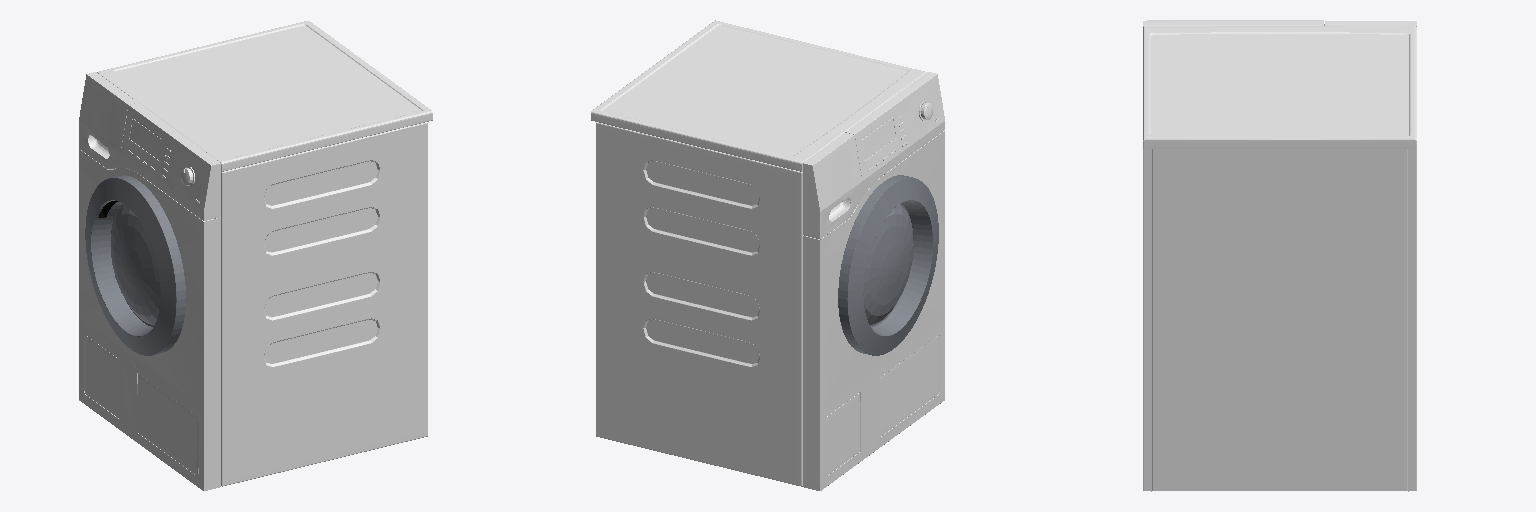
URDF robot description (miele_washing_machine):
<?xml version="1.0"?>
<!--
  Miele WT1 washer-dryer WTW870 WPM (Wash & Dry XXL, PowerWash & TwinDos, 9/6 kg): 850 mm high,
  596 mm wide, 714 mm deep (1132 mm with the door open), 102 kg, hinged on the right (data sheet
  11568210). The visual mesh is about 40 mm shallower than the data sheet depth.
  Visual meshes are split from the Miele T1/W1 3D model; joints, frames and collisions follow
  the layout of the 031 washing machine URDF.

  Metres, Z up, front toward -X, origin at floor level in the centre of the footprint.
  Seen from the front, the porthole door is hinged on the right and opened by hooking a finger from
  below into the grip recess in the upper left of its ring (115 to 155 degrees, 90 being the top): a
  2 cm deep hollow under the ring, open toward the door's centre, while the ring's front stays closed;
  the detergent drawer sits top left in the control panel.
  Masses and inertias are approximations from primitive volumes; the body mass is the 102 kg from the
  data sheet.
-->
<robot name="miele_washing_machine">
  <material name="miele_white"><color rgba="0.95 0.95 0.95 1"/></material>
  <material name="miele_door_grey"><color rgba="0.55 0.57 0.6 1"/></material>
  <material name="miele_recess_black"><color rgba="0.07 0.07 0.07 1"/></material>
  <material name="miele_recess_edge_orange"><color rgba="0.95 0.55 0.1 1"/></material>

  <link name="washing_machine">
    <inertial><origin xyz="0.021 0 0.43" rpy="0 0 0"/><mass value="102"/><inertia ixx="9.16" ixy="0" ixz="0" iyy="9.53" iyz="0" izz="6.41"/></inertial>
    <visual><origin xyz="0 0 0" rpy="0 0 0"/><geometry><mesh filename="package://iai_objects/objects/miele_washing_machine_body.stl"/></geometry><material name="miele_white"/></visual>
    <!-- housing -->
    <collision><origin xyz="0.021 -0.293 0.43" rpy="0 0 0"/><geometry><box size="0.632 0.01 0.85"/></geometry></collision>
    <collision><origin xyz="0.021 0.293 0.43" rpy="0 0 0"/><geometry><box size="0.632 0.01 0.85"/></geometry></collision>
    <collision><origin xyz="0.332 0 0.43" rpy="0 0 0"/><geometry><box size="0.01 0.596 0.85"/></geometry></collision>
    <collision><origin xyz="0.021 0 0.86" rpy="0 0 0"/><geometry><box size="0.632 0.596 0.01"/></geometry></collision>
    <collision><origin xyz="0.021 0 0.025" rpy="0 0 0"/><geometry><box size="0.632 0.596 0.01"/></geometry></collision>
    <!-- front plate around the porthole, radius 0.15 at y=0, z=0.491 -->
    <collision><origin xyz="-0.285 0 0.1805" rpy="0 0 0"/><geometry><box size="0.02 0.596 0.321"/></geometry></collision>
    <collision><origin xyz="-0.285 0 0.658" rpy="0 0 0"/><geometry><box size="0.02 0.596 0.034"/></geometry></collision>
    <collision><origin xyz="-0.285 -0.224 0.491" rpy="0 0 0"/><geometry><box size="0.02 0.148 0.3"/></geometry></collision>
    <collision><origin xyz="-0.285 0.224 0.491" rpy="0 0 0"/><geometry><box size="0.02 0.148 0.3"/></geometry></collision>
    <!-- control panel right of the detergent drawer opening -->
    <collision><origin xyz="-0.2705 -0.1005 0.77" rpy="0 0 0"/><geometry><box size="0.049 0.395 0.19"/></geometry></collision>
  </link>

  <link name="washing_machine_door">
    <inertial><origin xyz="0.03 0.217 0" rpy="0 0 0"/><mass value="5"/><inertia ixx="0.118" ixy="0" ixz="0" iyy="0.0604" iyz="0" izz="0.0604"/></inertial>
    <visual><origin xyz="0 0 0" rpy="0 0 0"/><geometry><mesh filename="package://iai_objects/objects/miele_washing_machine_door.stl"/></geometry><material name="miele_door_grey"/></visual>
    <visual><origin xyz="0 0 0" rpy="0 0 0"/><geometry><mesh filename="package://iai_objects/objects/miele_washing_machine_door_recess.stl"/></geometry><material name="miele_recess_black"/></visual>
    <visual><origin xyz="0 0 0" rpy="0 0 0"/><geometry><mesh filename="package://iai_objects/objects/miele_washing_machine_door_recess_edge.stl"/></geometry><material name="miele_recess_edge_orange"/></visual>
    <!-- only in front of the front plate, so the closed door touches neither the plate nor the detergent drawer:
         the back of the door as a disc, and the ring in front of it as 10 degree segments, left out where the
         ring holds the grip recess, which the handle covers -->
    <collision><origin xyz="0.00435 0.217 0" rpy="0 1.5708 0"/><geometry><cylinder radius="0.217" length="0.0107"/></geometry></collision>
    <collision><origin xyz="-0.01550 0.02600 0.00000" rpy="1.57080 0 0"/><geometry><box size="0.0290 0.0398 0.0520"/></geometry></collision>
    <collision><origin xyz="-0.01550 0.02890 0.03317" rpy="1.39626 0 0"/><geometry><box size="0.0290 0.0398 0.0520"/></geometry></collision>
    <collision><origin xyz="-0.01550 0.03752 0.06533" rpy="1.22173 0 0"/><geometry><box size="0.0290 0.0398 0.0520"/></geometry></collision>
    <collision><origin xyz="-0.01550 0.05159 0.09550" rpy="1.04720 0 0"/><geometry><box size="0.0290 0.0398 0.0520"/></geometry></collision>
    <collision><origin xyz="-0.01550 0.07069 0.12277" rpy="0.87266 0 0"/><geometry><box size="0.0290 0.0398 0.0520"/></geometry></collision>
    <collision><origin xyz="-0.01550 0.09423 0.14631" rpy="0.69813 0 0"/><geometry><box size="0.0290 0.0398 0.0520"/></geometry></collision>
    <collision><origin xyz="-0.01550 0.12150 0.16541" rpy="0.52360 0 0"/><geometry><box size="0.0290 0.0398 0.0520"/></geometry></collision>
    <collision><origin xyz="-0.01550 0.15167 0.17948" rpy="0.34907 0 0"/><geometry><box size="0.0290 0.0398 0.0520"/></geometry></collision>
    <collision><origin xyz="-0.01550 0.18383 0.18810" rpy="0.17453 0 0"/><geometry><box size="0.0290 0.0398 0.0520"/></geometry></collision>
    <collision><origin xyz="-0.01550 0.21700 0.19100" rpy="0.00000 0 0"/><geometry><box size="0.0290 0.0398 0.0520"/></geometry></collision>
    <collision><origin xyz="-0.01550 0.25017 0.18810" rpy="-0.17453 0 0"/><geometry><box size="0.0290 0.0398 0.0520"/></geometry></collision>
    <collision><origin xyz="-0.01550 0.28233 0.17948" rpy="-0.34907 0 0"/><geometry><box size="0.0290 0.0398 0.0520"/></geometry></collision>
    <collision><origin xyz="-0.01550 0.39648 0.06533" rpy="-1.22173 0 0"/><geometry><box size="0.0290 0.0398 0.0520"/></geometry></collision>
    <collision><origin xyz="-0.01550 0.40510 0.03317" rpy="-1.39626 0 0"/><geometry><box size="0.0290 0.0398 0.0520"/></geometry></collision>
    <collision><origin xyz="-0.01550 0.40800 0.00000" rpy="-1.57080 0 0"/><geometry><box size="0.0290 0.0398 0.0520"/></geometry></collision>
    <collision><origin xyz="-0.01550 0.40510 -0.03317" rpy="-1.74533 0 0"/><geometry><box size="0.0290 0.0398 0.0520"/></geometry></collision>
    <collision><origin xyz="-0.01550 0.39648 -0.06533" rpy="-1.91986 0 0"/><geometry><box size="0.0290 0.0398 0.0520"/></geometry></collision>
    <collision><origin xyz="-0.01550 0.38241 -0.09550" rpy="-2.09440 0 0"/><geometry><box size="0.0290 0.0398 0.0520"/></geometry></collision>
    <collision><origin xyz="-0.01550 0.36331 -0.12277" rpy="-2.26893 0 0"/><geometry><box size="0.0290 0.0398 0.0520"/></geometry></collision>
    <collision><origin xyz="-0.01550 0.33977 -0.14631" rpy="-2.44346 0 0"/><geometry><box size="0.0290 0.0398 0.0520"/></geometry></collision>
    <collision><origin xyz="-0.01550 0.31250 -0.16541" rpy="-2.61799 0 0"/><geometry><box size="0.0290 0.0398 0.0520"/></geometry></collision>
    <collision><origin xyz="-0.01550 0.28233 -0.17948" rpy="-2.79253 0 0"/><geometry><box size="0.0290 0.0398 0.0520"/></geometry></collision>
    <collision><origin xyz="-0.01550 0.25017 -0.18810" rpy="-2.96706 0 0"/><geometry><box size="0.0290 0.0398 0.0520"/></geometry></collision>
    <collision><origin xyz="-0.01550 0.21700 -0.19100" rpy="-3.14159 0 0"/><geometry><box size="0.0290 0.0398 0.0520"/></geometry></collision>
    <collision><origin xyz="-0.01550 0.18383 -0.18810" rpy="-3.31613 0 0"/><geometry><box size="0.0290 0.0398 0.0520"/></geometry></collision>
    <collision><origin xyz="-0.01550 0.15167 -0.17948" rpy="-3.49066 0 0"/><geometry><box size="0.0290 0.0398 0.0520"/></geometry></collision>
    <collision><origin xyz="-0.01550 0.12150 -0.16541" rpy="-3.66519 0 0"/><geometry><box size="0.0290 0.0398 0.0520"/></geometry></collision>
    <collision><origin xyz="-0.01550 0.09423 -0.14631" rpy="-3.83972 0 0"/><geometry><box size="0.0290 0.0398 0.0520"/></geometry></collision>
    <collision><origin xyz="-0.01550 0.07069 -0.12277" rpy="-4.01426 0 0"/><geometry><box size="0.0290 0.0398 0.0520"/></geometry></collision>
    <collision><origin xyz="-0.01550 0.05159 -0.09550" rpy="-4.18879 0 0"/><geometry><box size="0.0290 0.0398 0.0520"/></geometry></collision>
    <collision><origin xyz="-0.01550 0.03752 -0.06533" rpy="-4.36332 0 0"/><geometry><box size="0.0290 0.0398 0.0520"/></geometry></collision>
    <collision><origin xyz="-0.01550 0.02890 -0.03317" rpy="-4.53786 0 0"/><geometry><box size="0.0290 0.0398 0.0520"/></geometry></collision>
  </link>

  <!-- the ring over the grip recess: its front skin, and its outer part beside the recess -->
  <link name="washing_machine_door_handle">
    <inertial><origin xyz="0 0 0" rpy="0 0 0"/><mass value="0.01"/><inertia ixx="1e-6" ixy="0" ixz="0" iyy="1e-6" iyz="0" izz="1e-6"/></inertial>
    <collision><origin xyz="-0.01530 -0.04943 -0.02401" rpy="0.26180 0 0"/><geometry><box size="0.0090 0.0398 0.0520"/></geometry></collision>
    <collision><origin xyz="-0.00080 -0.05202 -0.01435" rpy="0.26180 0 0"/><geometry><box size="0.0200 0.0398 0.0320"/></geometry></collision>
    <collision><origin xyz="-0.01530 -0.01665 -0.01823" rpy="0.08727 0 0"/><geometry><box size="0.0090 0.0398 0.0520"/></geometry></collision>
    <collision><origin xyz="-0.00080 -0.01752 -0.00826" rpy="0.08727 0 0"/><geometry><box size="0.0200 0.0398 0.0320"/></geometry></collision>
    <collision><origin xyz="-0.01530 0.01665 -0.01823" rpy="-0.08727 0 0"/><geometry><box size="0.0090 0.0398 0.0520"/></geometry></collision>
    <collision><origin xyz="-0.00080 0.01752 -0.00826" rpy="-0.08727 0 0"/><geometry><box size="0.0200 0.0398 0.0320"/></geometry></collision>
    <collision><origin xyz="-0.01530 0.04943 -0.02401" rpy="-0.26180 0 0"/><geometry><box size="0.0090 0.0398 0.0520"/></geometry></collision>
    <collision><origin xyz="-0.00080 0.05202 -0.01435" rpy="-0.26180 0 0"/><geometry><box size="0.0200 0.0398 0.0320"/></geometry></collision>
  </link>

  <link name="washing_machine_detergent_drawer">
    <inertial><origin xyz="0.2 0 0" rpy="0 0 0"/><mass value="0.9"/><inertia ixx="0.00488" ixy="0" ixz="0" iyy="0.01417" iyz="0" izz="0.0147"/></inertial>
    <visual><origin xyz="0 0 0" rpy="0 0 0"/><geometry><mesh filename="package://iai_objects/objects/miele_washing_machine_drawer.stl"/></geometry><material name="miele_white"/></visual>
    <!-- front, then the open tray behind it -->
    <collision><origin xyz="0.024 0 0" rpy="0 0 0"/><geometry><box size="0.048 0.2 0.19"/></geometry></collision>
    <collision><origin xyz="0.224 0 -0.08" rpy="0 0 0"/><geometry><box size="0.352 0.19 0.0025"/></geometry></collision>
    <collision><origin xyz="0.224 -0.094 -0.0025" rpy="0 0 0"/><geometry><box size="0.352 0.0025 0.155"/></geometry></collision>
    <collision><origin xyz="0.224 0.094 -0.0025" rpy="0 0 0"/><geometry><box size="0.352 0.0025 0.155"/></geometry></collision>
    <collision><origin xyz="0.399 0 -0.0025" rpy="0 0 0"/><geometry><box size="0.0025 0.19 0.155"/></geometry></collision>
  </link>

  <link name="washing_machine_detergent_drawer_handle">
    <inertial><origin xyz="0 0 0" rpy="0 0 0"/><mass value="0.01"/><inertia ixx="1e-6" ixy="0" ixz="0" iyy="1e-6" iyz="0" izz="1e-6"/></inertial>
    <collision><origin xyz="0 0 0" rpy="0 0 0"/><geometry><box size="0.02 0.12 0.025"/></geometry></collision>
  </link>

  <!-- hinge at the right edge of the door ring seen from the front; opening swings the left edge toward -X -->
  <joint name="washing_machine_door_joint" type="revolute">
    <parent link="washing_machine"/><child link="washing_machine_door"/>
    <origin xyz="-0.3067 -0.2174 0.4911" rpy="0 0 0"/><axis xyz="0 0 1"/>
    <limit lower="0" upper="1.5708" effort="50" velocity="1.5"/>
    <!-- rough estimate, so the door stays where it is left instead of swinging freely -->
    <dynamics damping="0.5" friction="0.3"/>
  </joint>
  <!-- the middle of the ring's thickness at its outer edge, 45 degrees above its left edge, x along the door normal,
       y along the ring, z outward from the ring's centre -->
  <joint name="washing_machine_door_handle_joint" type="fixed">
    <parent link="washing_machine_door"/><child link="washing_machine_door_handle"/>
    <origin xyz="-0.0102 0.3644 0.1474" rpy="-0.7854 0 0"/>
  </joint>
  <joint name="washing_machine_detergent_drawer_joint" type="prismatic">
    <parent link="washing_machine"/><child link="washing_machine_detergent_drawer"/>
    <origin xyz="-0.2945 0.1971 0.7701" rpy="0 0 0"/><axis xyz="-1 0 0"/>
    <limit lower="0" upper="0.27" effort="50" velocity="0.2"/>
  </joint>
  <!-- grip recess along the lower edge of the drawer front -->
  <joint name="washing_machine_detergent_drawer_handle_joint" type="fixed">
    <parent link="washing_machine_detergent_drawer"/><child link="washing_machine_detergent_drawer_handle"/>
    <origin xyz="0.0 0.014 -0.034" rpy="0 0 0"/>
  </joint>
</robot>

--- What the picture shows (computed from the rendered views, not written in the file) ---
The picture shows the robot from 3 angles, left to right: view 1: azimuth 30°, elevation 25°; view 2: azimuth 150°, elevation 25°; view 3: azimuth 270°, elevation 25°; orthographic projection.
Robot: miele_washing_machine — 5 links, 4 joints (1 revolute, 1 prismatic, 2 fixed); root link washing_machine; default pose: all joints at 0.
Visible links, largest first — view 1: washing_machine, washing_machine_door, washing_machine_detergent_drawer; view 2: washing_machine, washing_machine_door, washing_machine_detergent_drawer; view 3: washing_machine.
Link boxes in pixels (bbox=[...]): washing_machine: bbox=[79, 21, 432, 490]; washing_machine_door: bbox=[85, 175, 185, 355]; washing_machine_detergent_drawer: bbox=[79, 72, 137, 168]; washing_machine: bbox=[591, 20, 944, 490]; washing_machine_door: bbox=[838, 175, 938, 355]; washing_machine_detergent_drawer: bbox=[803, 133, 861, 239]; washing_machine: bbox=[1143, 20, 1416, 491].
Size in the robot's own frame: 0.6734 by 0.5953 by 0.8653 metres.
Meshes: 5 distinct files referenced, 5 mesh visuals loaded (5 binary STL).
